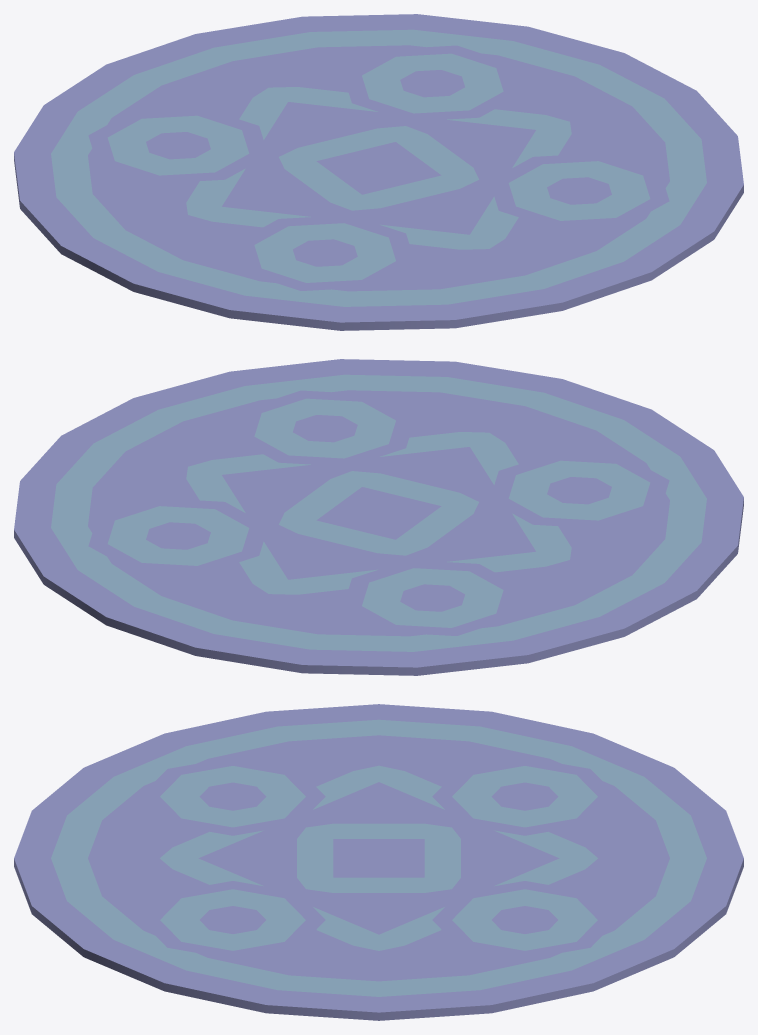
Rendered from carpet-round-large-decorative.glb.
3 renders of one model, top to bottom at view 1: azimuth 30°, elevation 25°; view 2: azimuth 150°, elevation 25°; view 3: azimuth 270°, elevation 25°, orthographic.
Parts seen in each view (by area): view 1: carpet-round-large-decorative; view 2: carpet-round-large-decorative; view 3: carpet-round-large-decorative.
Part boxes in pixels (x1,y1,x2,y2): carpet-round-large-decorative: (14,14,743,330); carpet-round-large-decorative: (14,359,743,675); carpet-round-large-decorative: (14,704,743,1020).
Bounding box in the file's own units: 2 × 0.025 × 2.
